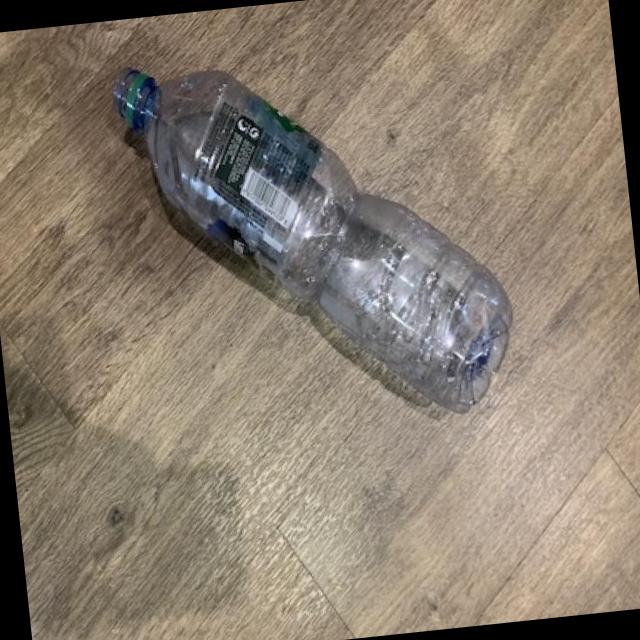plastic_bottle: (110, 30, 524, 448)
